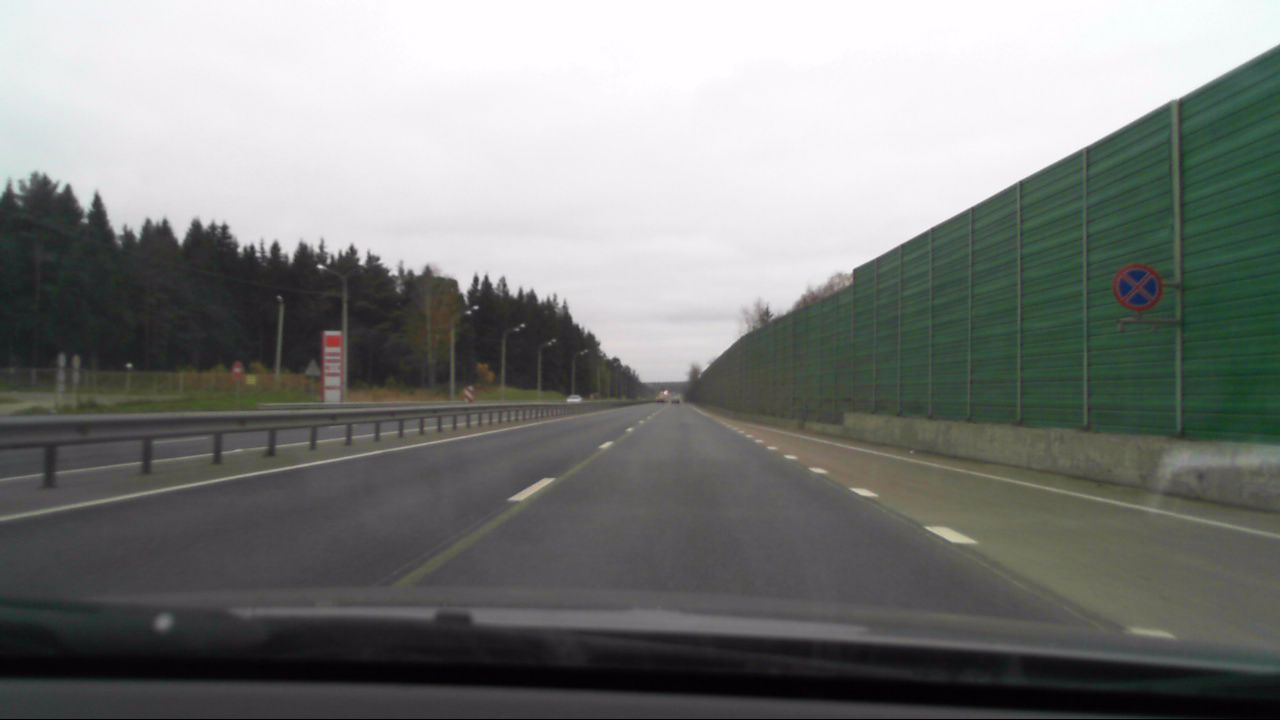No Parking: (1109, 264, 1162, 316)
